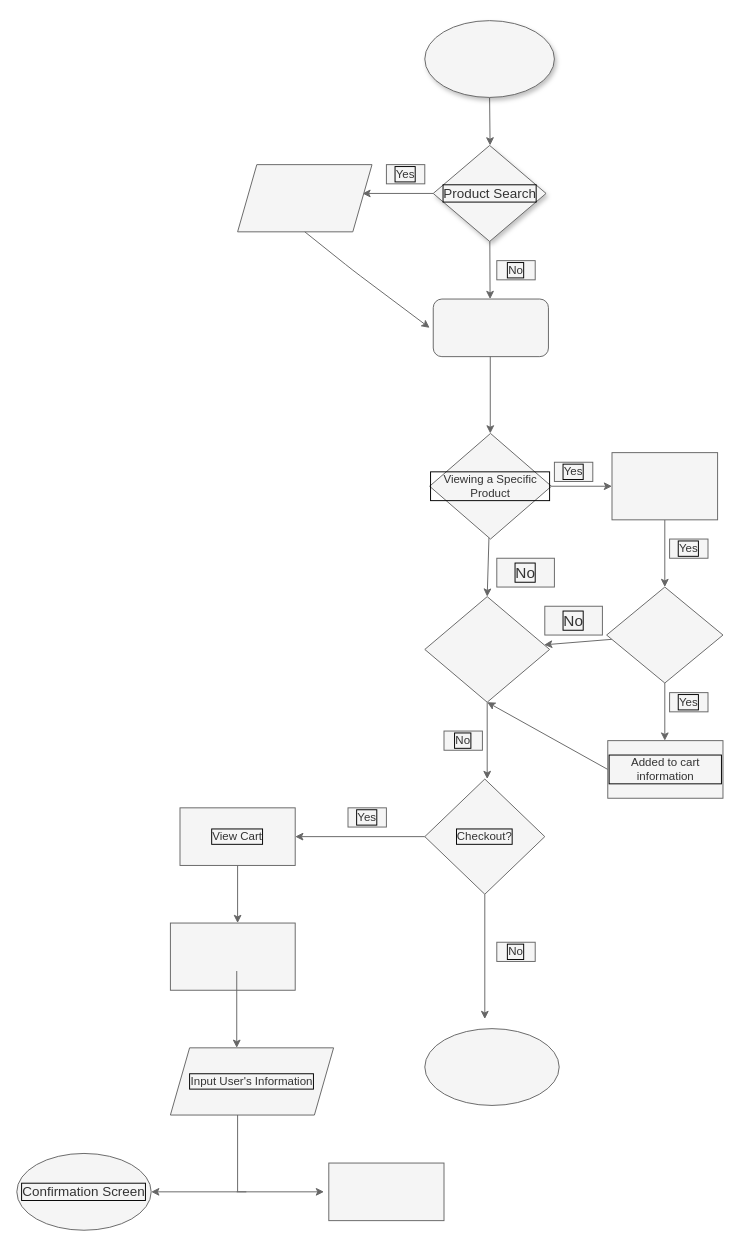
The diagram is 740 pixels wide and 1247 high, and some of its shapes have lost their labels. The centre of each missing label's shape, as x and y in pixels:
"Adding to Cart?" belongs at point (664, 634).
"Confirmation Email" belongs at point (386, 1191).
"Continue with the Shopping" belongs at point (487, 649).
"Left Website" belongs at point (491, 1066).
"Product's Home Page" belongs at point (490, 327).
"Specific Item page" belongs at point (664, 486).
"Start (User Enters Website)" belongs at point (490, 60).
"User's Input" belongs at point (304, 198).
"View Payment Screen" belongs at point (232, 956).
